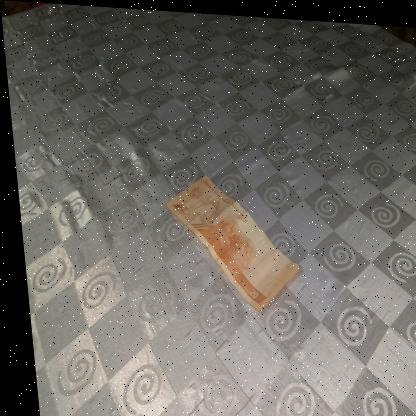twenty-back-vef: (158, 170, 301, 312)
